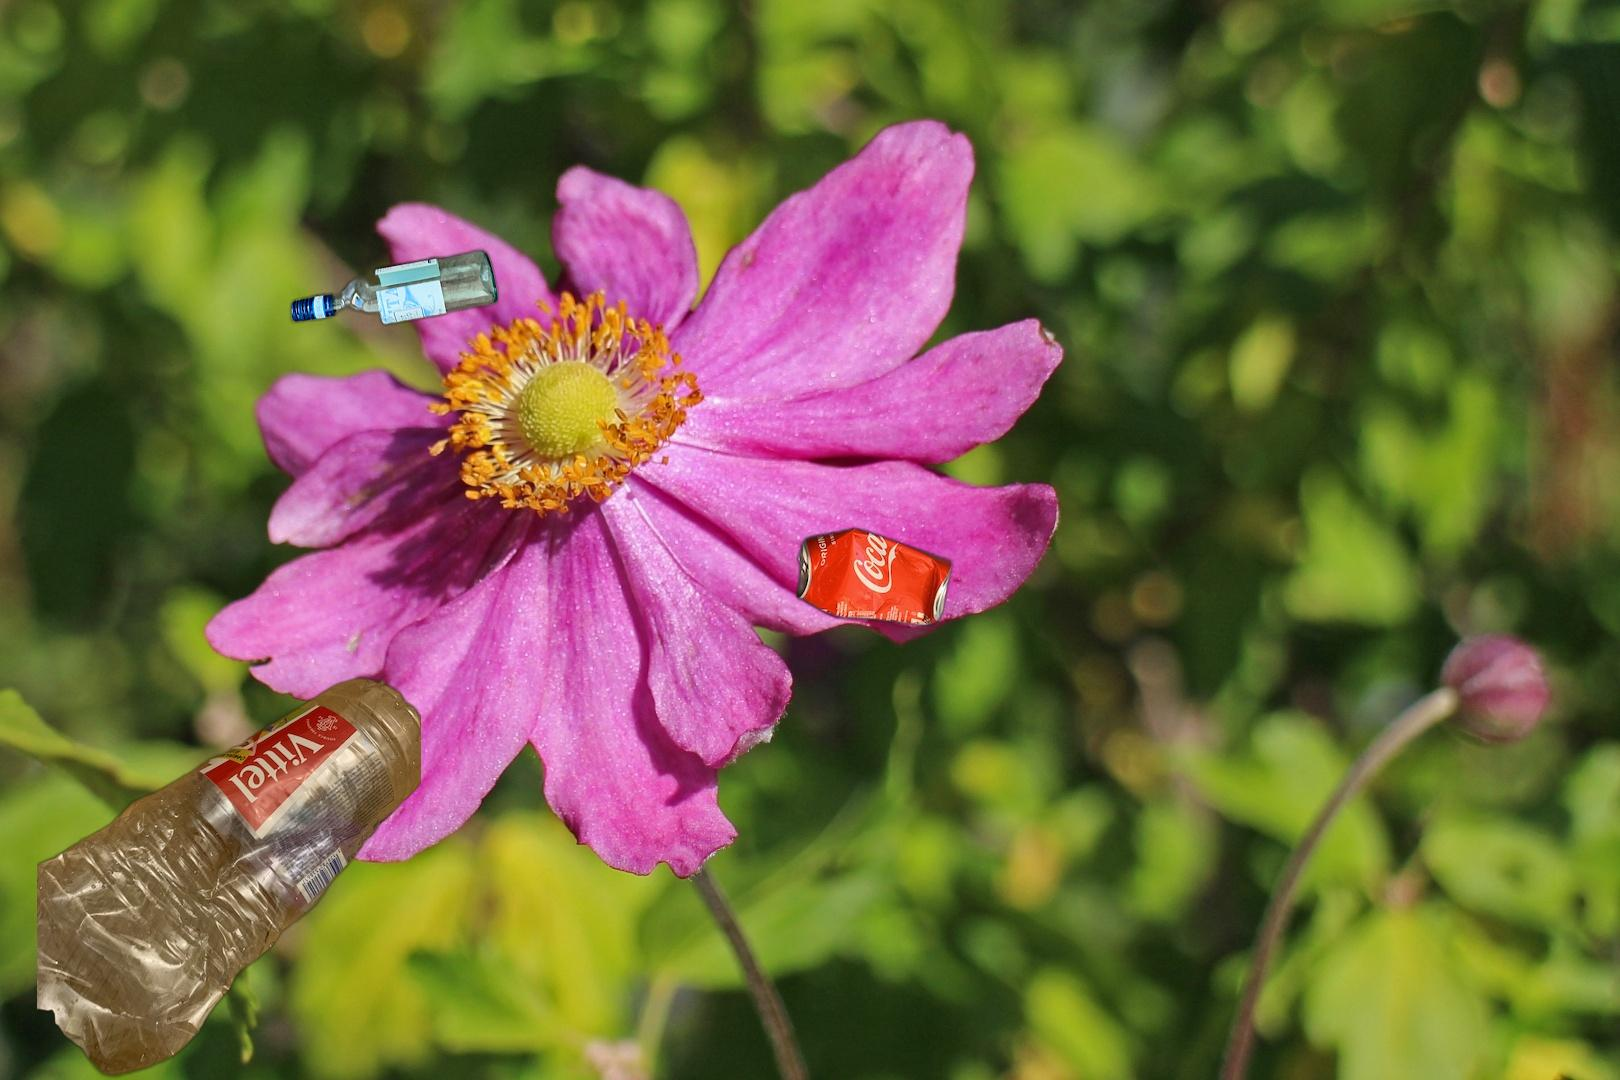glass: (284, 243, 503, 331)
metal-cans: (791, 229, 1154, 633)
paper: (1561, 52, 1620, 436)
plastic-bottles: (37, 674, 421, 1080)
